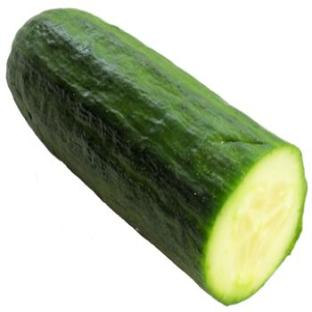Cucumber: (8, 10, 306, 304)
